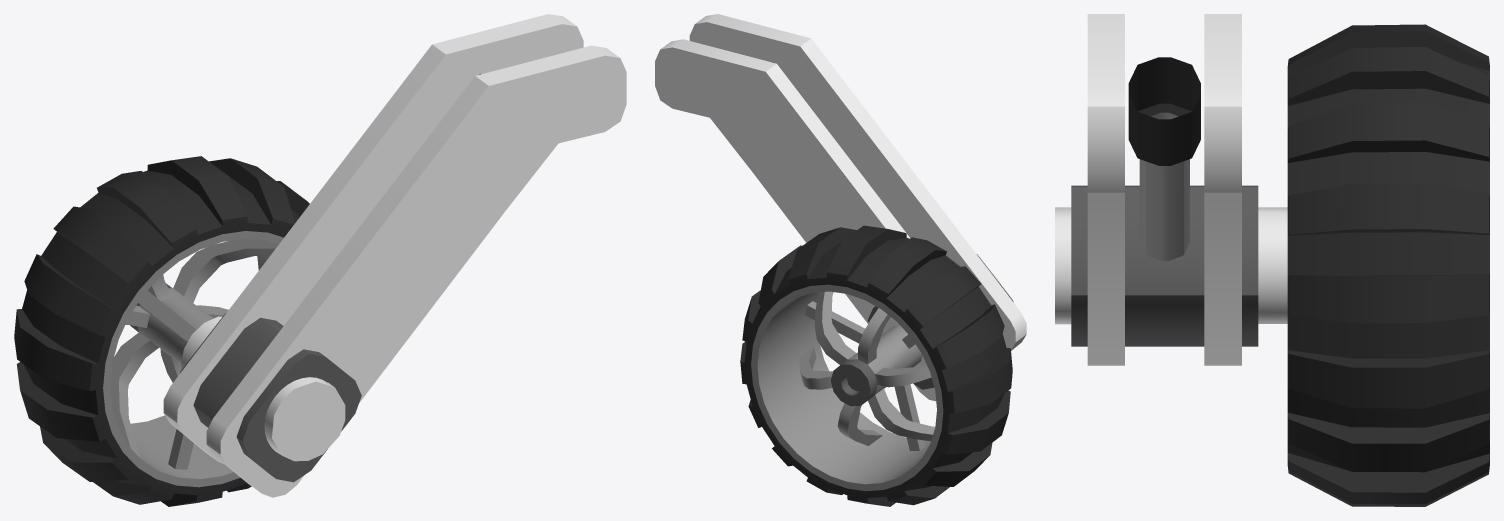
The model's file is rueda_tra_izq.obj.
3 renders of one model, left to right at view 1: azimuth 30°, elevation 25°; view 2: azimuth 150°, elevation 25°; view 3: azimuth 270°, elevation 25°, orthographic. The views are drawn at different scales.
Parts seen in each view (by area): view 1: rueda_tra_izq; view 2: rueda_tra_izq; view 3: rueda_tra_izq.
Boxes of the visible parts, x1=… form: rueda_tra_izq: x1=14, y1=14, x2=626, y2=506; rueda_tra_izq: x1=655, y1=14, x2=1026, y2=506; rueda_tra_izq: x1=1055, y1=14, x2=1489, y2=506.
Bounding box in the file's own units: 3.9 × 3.41 × 2.23.
